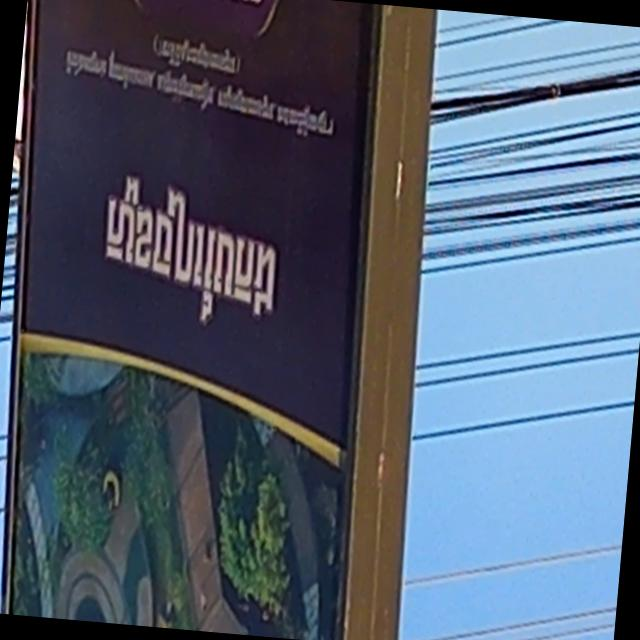Yolov11_80vkh: (101, 162, 284, 333)
